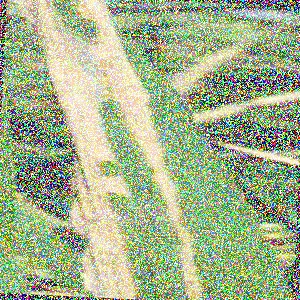Leaf_Blast: (51, 2, 252, 300)
